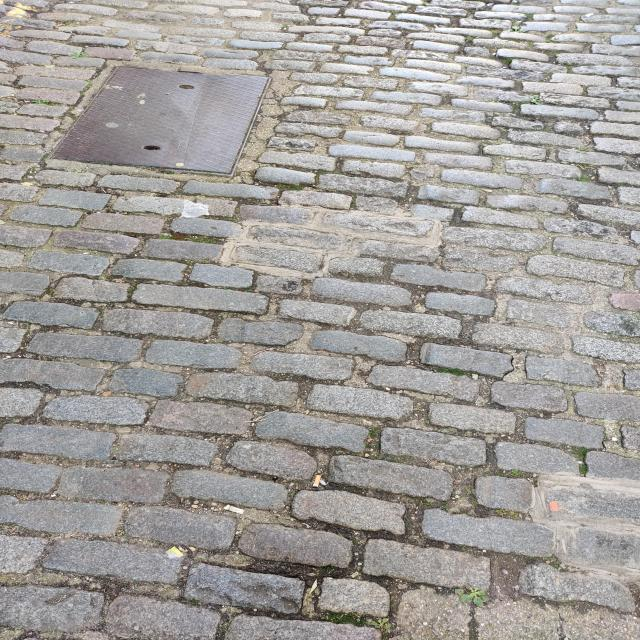litter: (178, 201, 211, 219)
